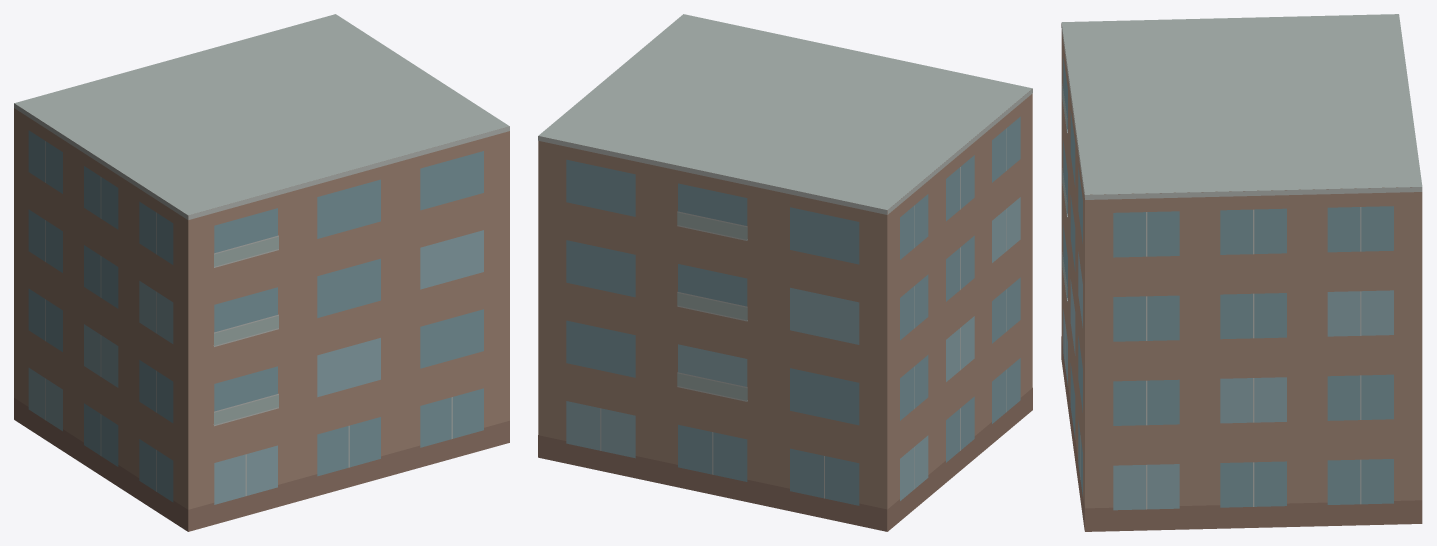
Rendered from survey-upis-32747345.glb.
3 renders of one model, left to right at view 1: azimuth 30°, elevation 25°; view 2: azimuth 150°, elevation 25°; view 3: azimuth 270°, elevation 25°, orthographic. The views are drawn at different scales.
Parts seen in each view (by area): view 1: survey-upis-32747345.tmp; view 2: survey-upis-32747345.tmp; view 3: survey-upis-32747345.tmp.
Part boxes in pixels (left/top/right/bottom): survey-upis-32747345.tmp: left=14, top=14, right=509, bottom=531; survey-upis-32747345.tmp: left=538, top=14, right=1032, bottom=531; survey-upis-32747345.tmp: left=1061, top=14, right=1422, bottom=531.
Size of the model in its own units: 18.49 by 16.05 by 15.59.
